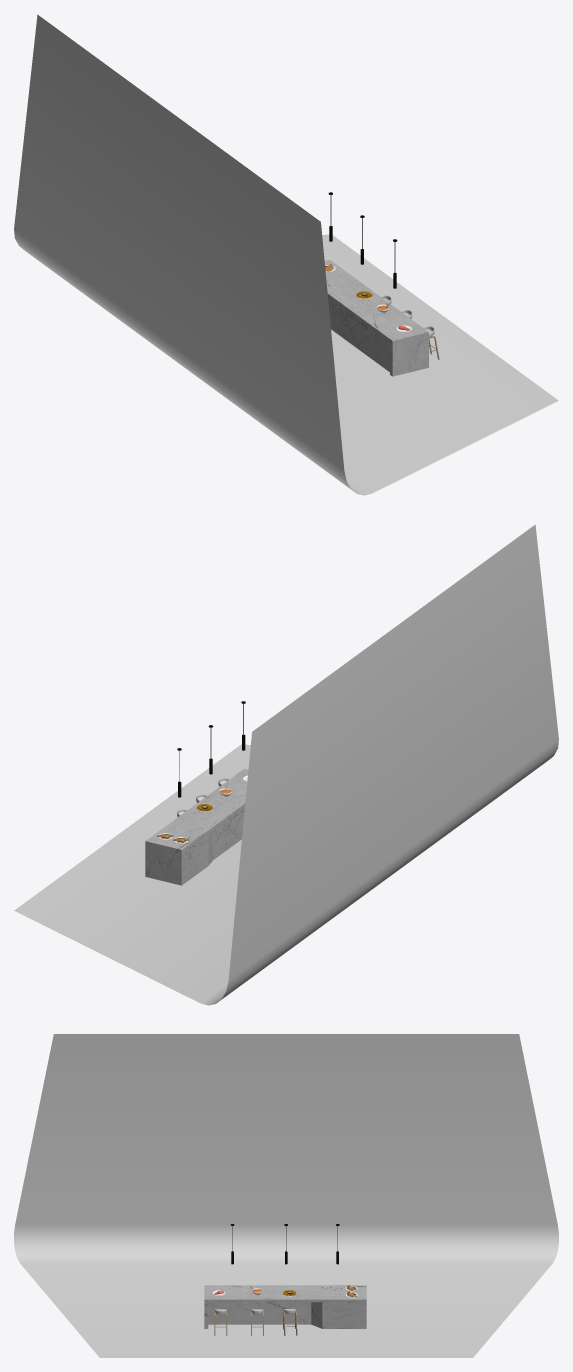
The model's file is Table.glb.
The picture shows the model from 3 angles, top to bottom: view 1: azimuth 30°, elevation 25°; view 2: azimuth 150°, elevation 25°; view 3: azimuth 270°, elevation 25°; orthographic projection. The views are drawn at different scales.
Parts seen in each view (by area): view 1: Plane, table; view 2: Plane, table; view 3: Plane, table.
Boxes of the visible parts, x1,y1,x2,y2 form: Plane: [14, 14, 558, 495]; table: [324, 260, 428, 376]; Plane: [14, 524, 558, 1005]; table: [145, 769, 248, 885]; Plane: [14, 1034, 558, 1357]; table: [204, 1285, 366, 1328].
Bounding box in the file's own units: 19.9 × 18.89 × 42.99.
22 materials, 1 textured.
